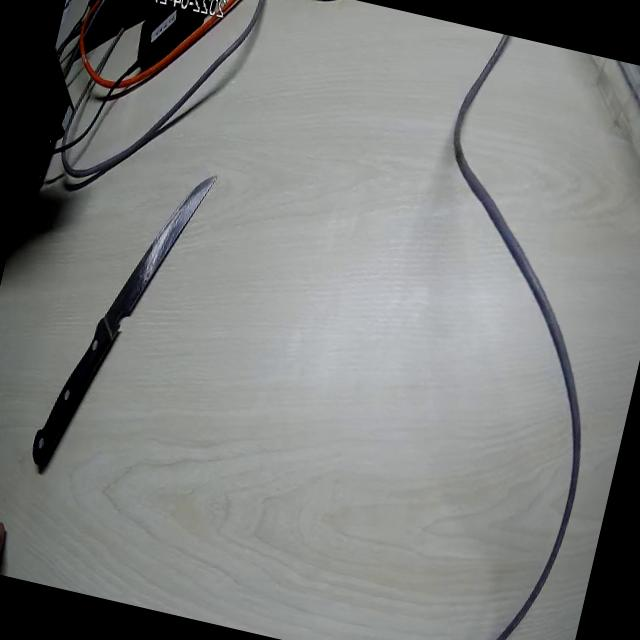knife: (45, 141, 222, 467)
